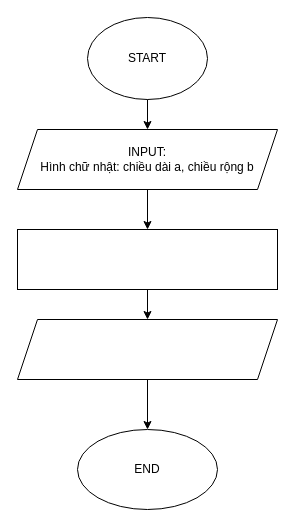
The diagram is 295 pixels wide and 527 high, and some of its shapes have lost their labels. The centre of each missing label's shape, as x and y in pixels:
OUTPUT: 1. C = 2*(a+b) 2. S = a*b: point 147,349
Result: 1. Chu vi hình chữ nhật: C = 2*(a+b) 2. Diện tích hình chữ nhật: S = a*b: point 147,259
